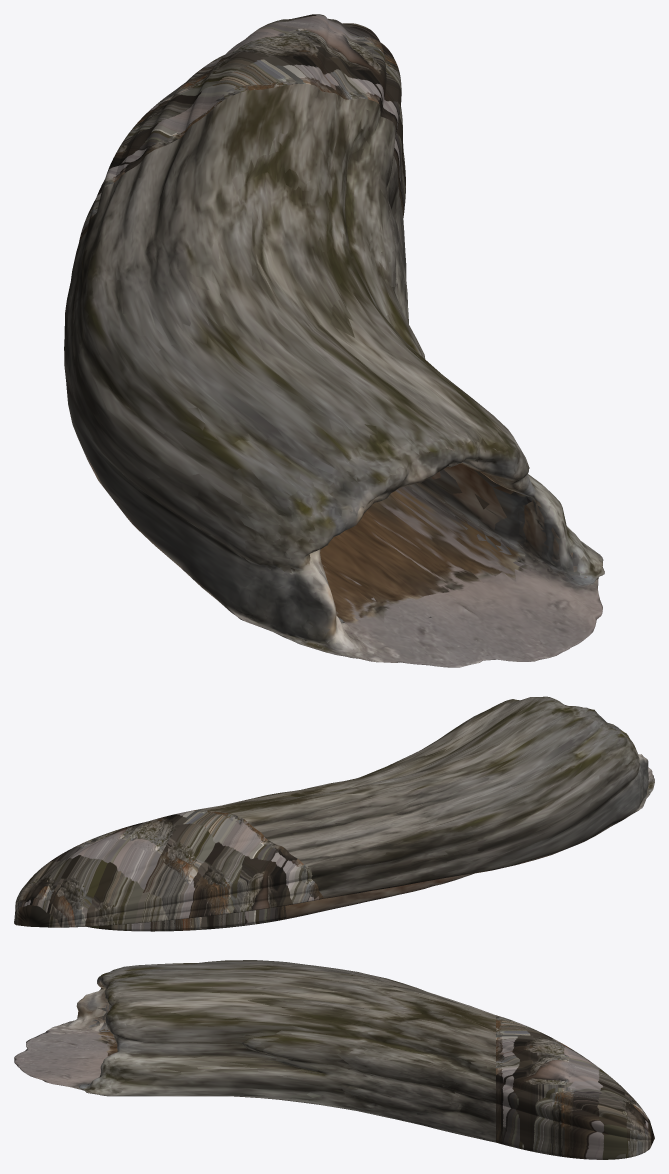
3 renders of one model, top to bottom at view 1: azimuth 30°, elevation 25°; view 2: azimuth 150°, elevation 25°; view 3: azimuth 270°, elevation 25°, orthographic. The views are drawn at different scales.
Visible parts, largest first — view 1: Continuous cave shell; view 2: Continuous cave shell; view 3: Continuous cave shell.
Part boxes in pixels (x1,y1,x2,y2): Continuous cave shell: (64,14,604,667); Continuous cave shell: (14,696,654,931); Continuous cave shell: (14,960,654,1159).
Bounding box in the file's own units: 32.12 × 8.4 × 56.81.
1 material, 1 textured.
